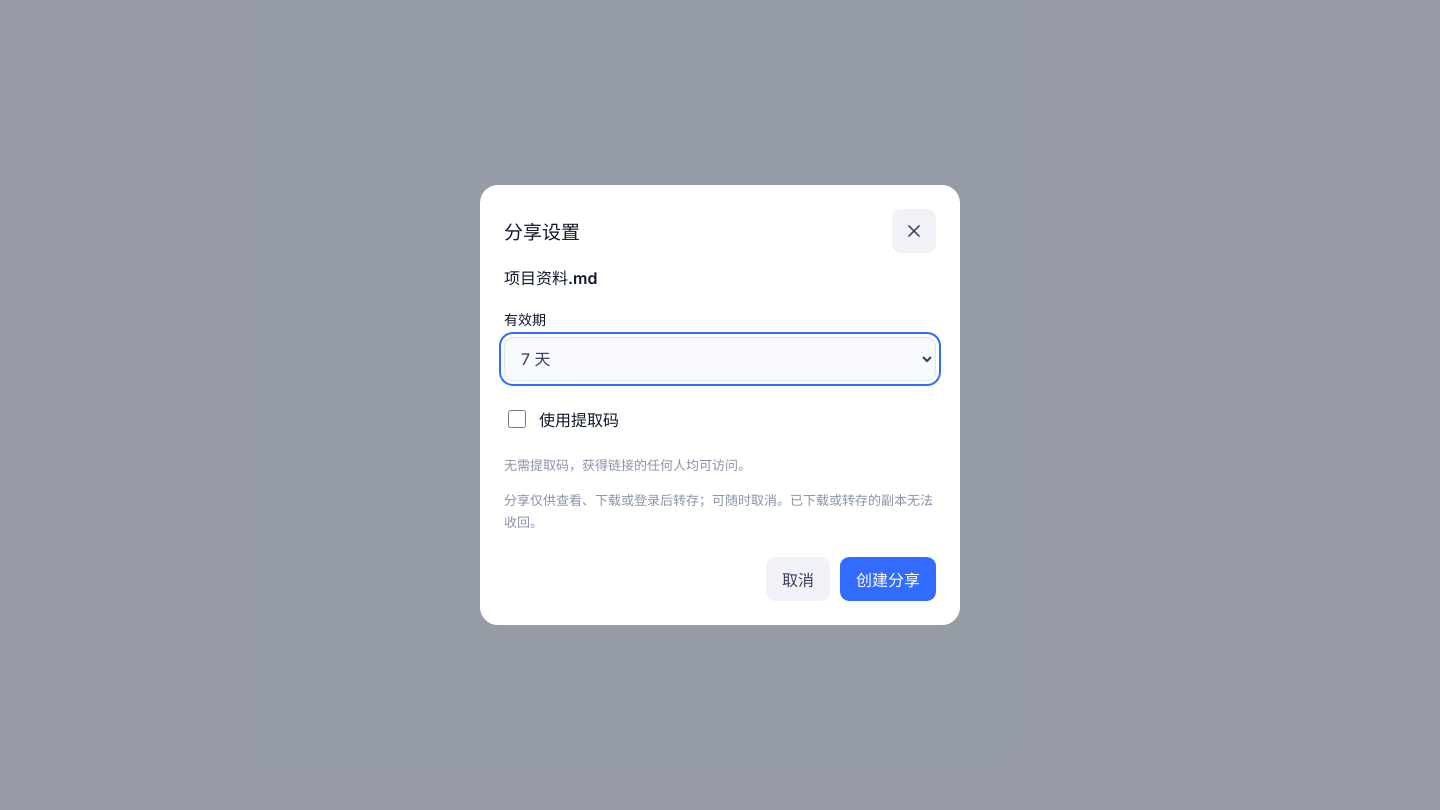
Test case: share settings › does not send an invalid lifetime or extraction code
The width and height of the screenshot is (1440, 810).
Select "自定义天数" in the dropdown with id "share-duration": (720, 359) [504,337,936,381]
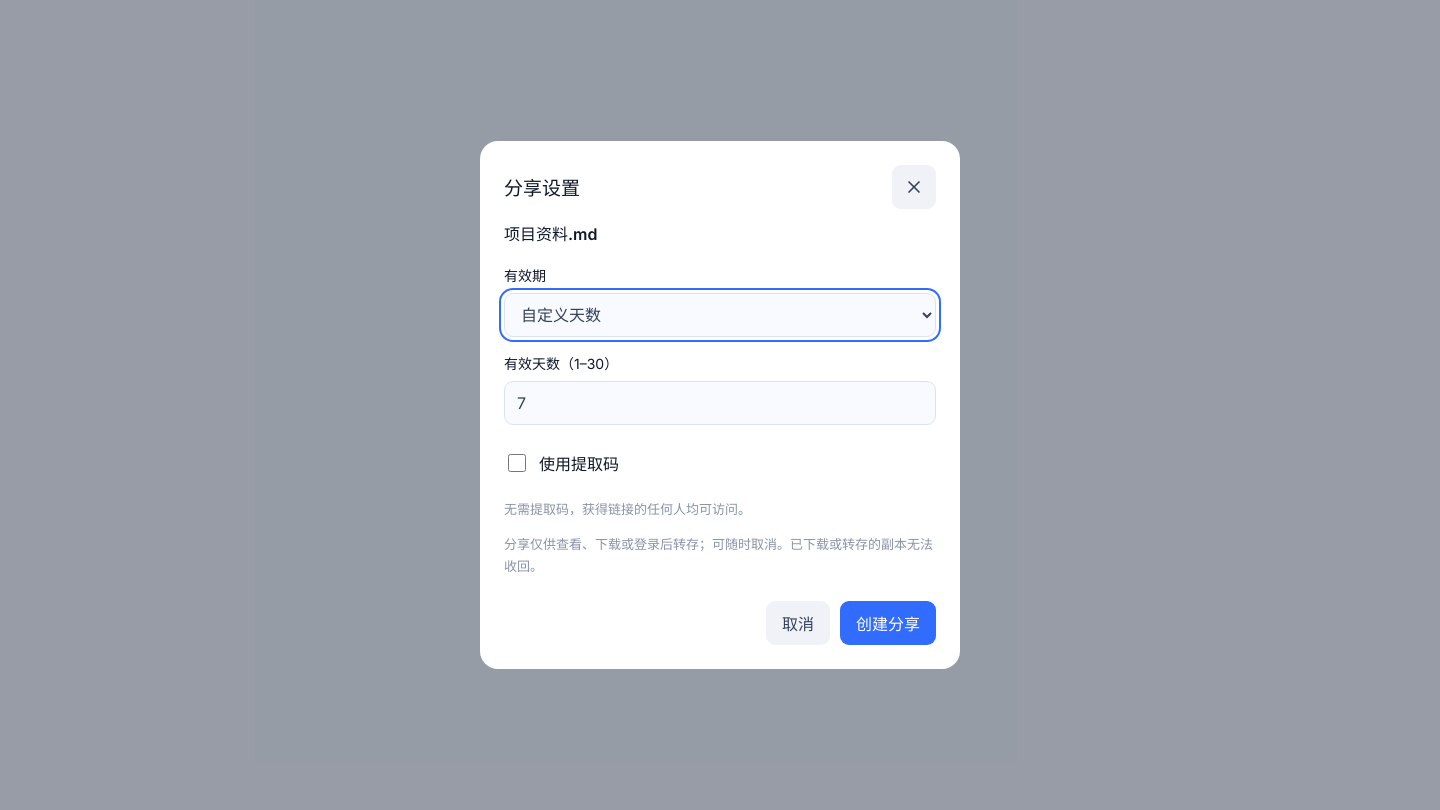
Replace the text in the number field with id "share-custom-days" with "31": (720, 403) [504,381,936,425]
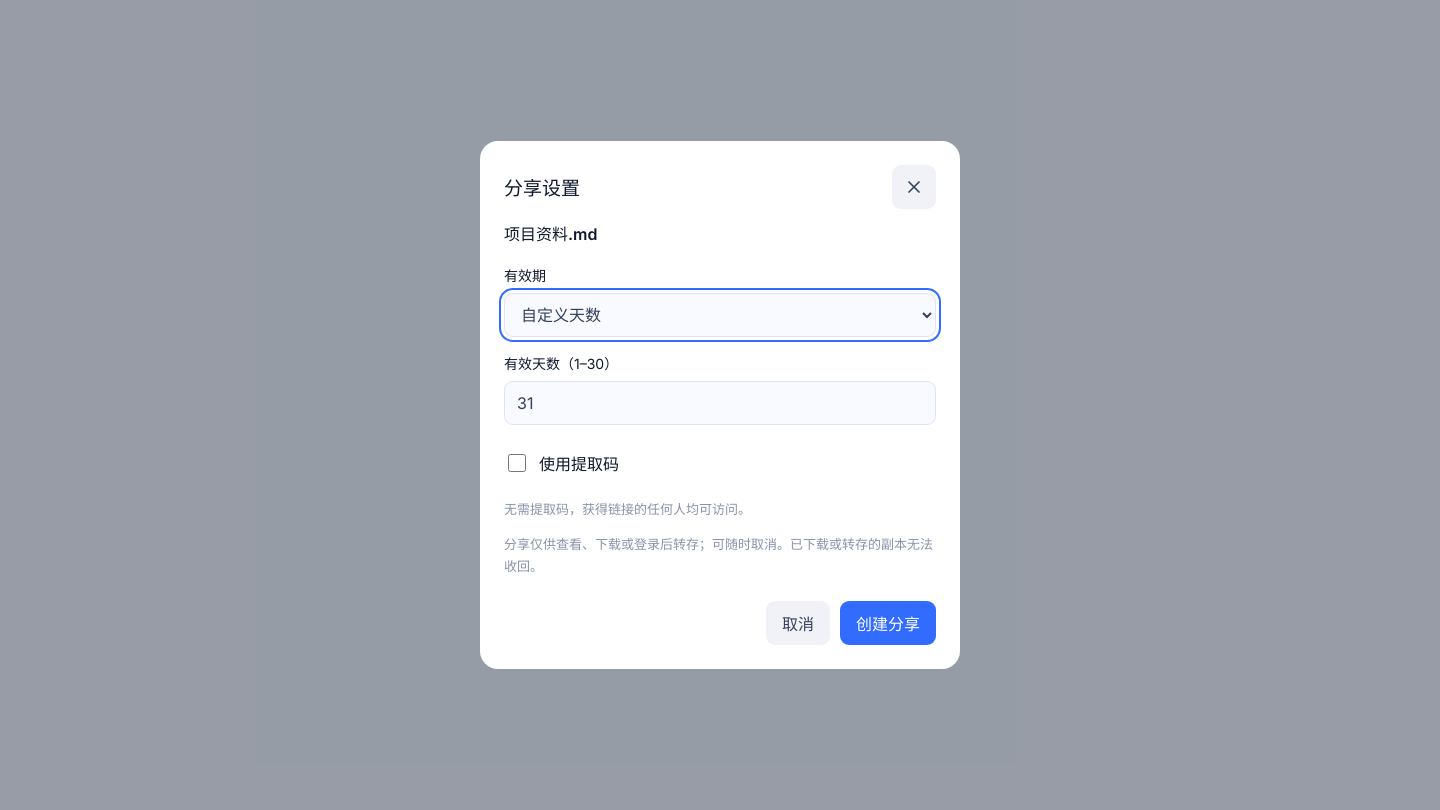
Submit the form, box [504,265,936,645]
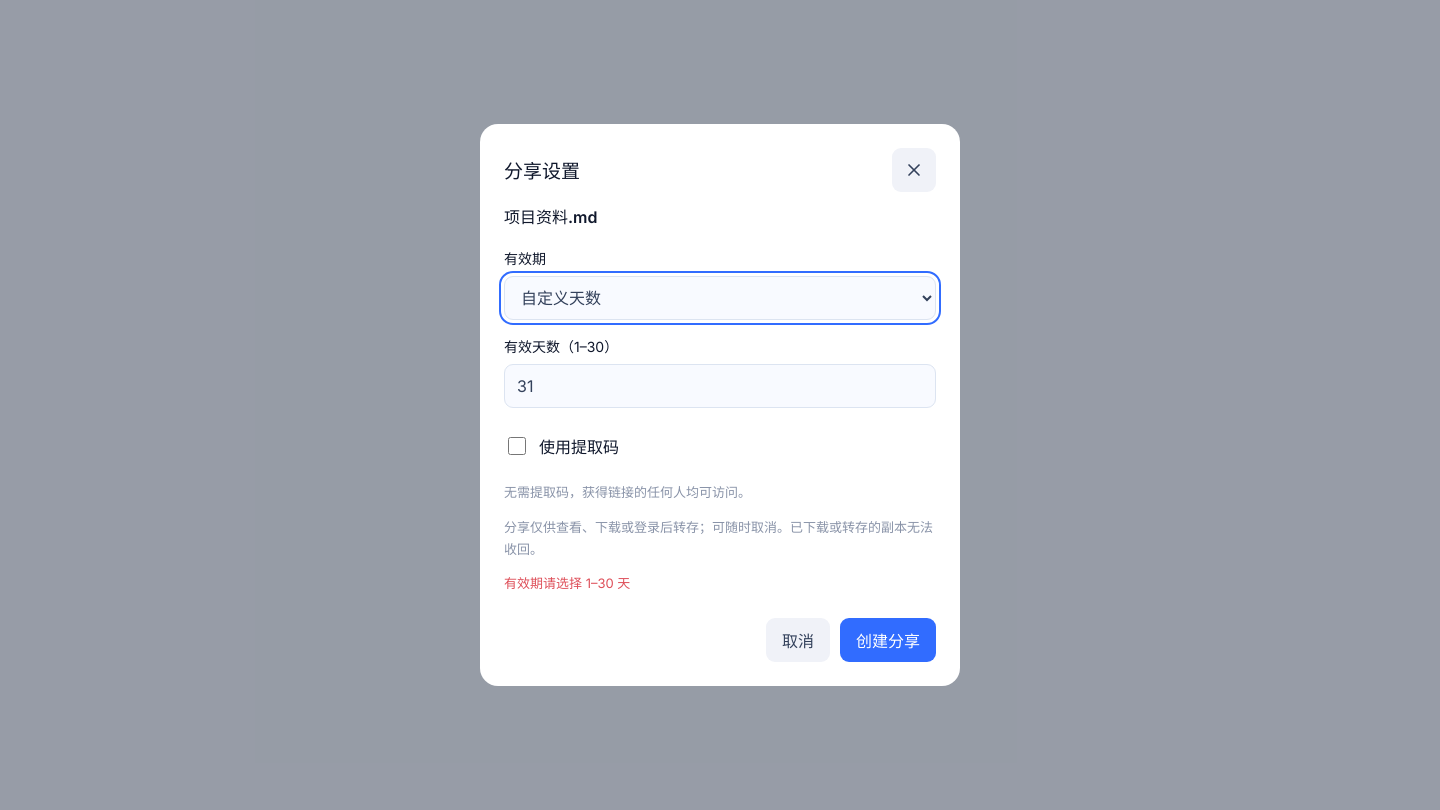
Now the message "有效期请选择 1–30 天" is shown, box [504,575,630,591]
Replace the text in the number field with id "share-custom-days" with "2": (720, 386) [504,364,936,408]
Click the checkbox labelled "使用提取码": (517, 446) [508,437,526,455]
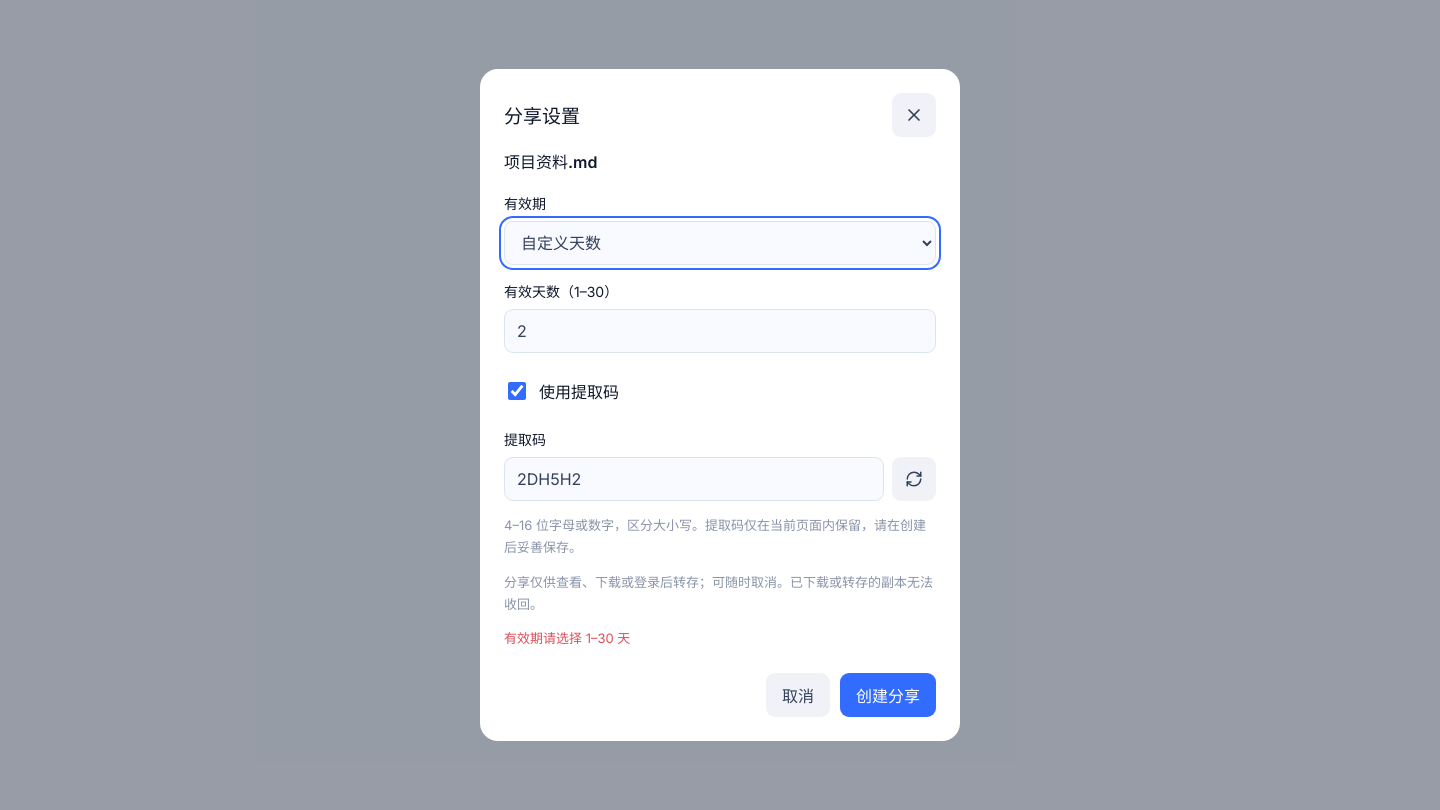
Replace the text in the field with id "share-extraction-code" with "bad code": (694, 479) [504,457,884,501]
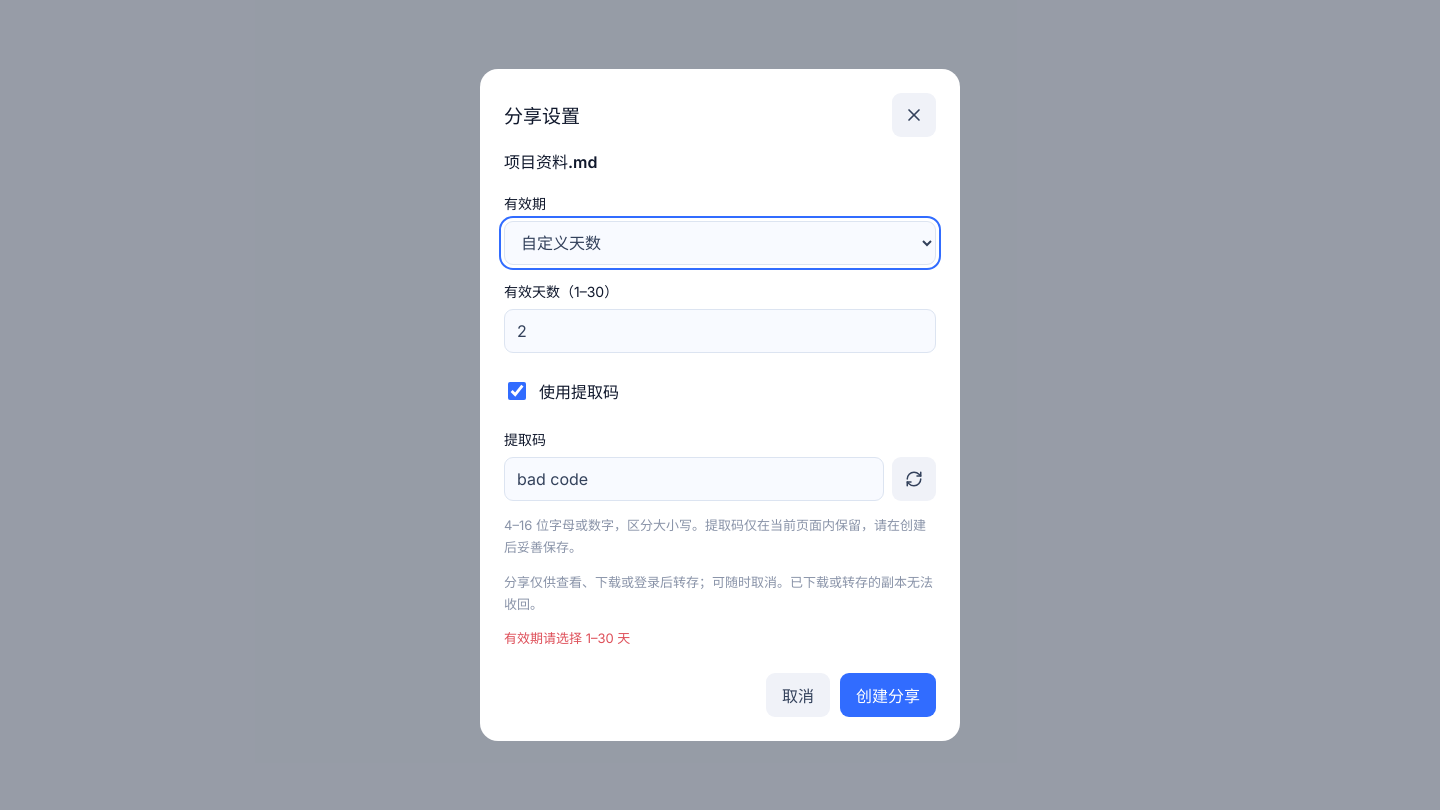
Submit the form, box [504,193,936,717]
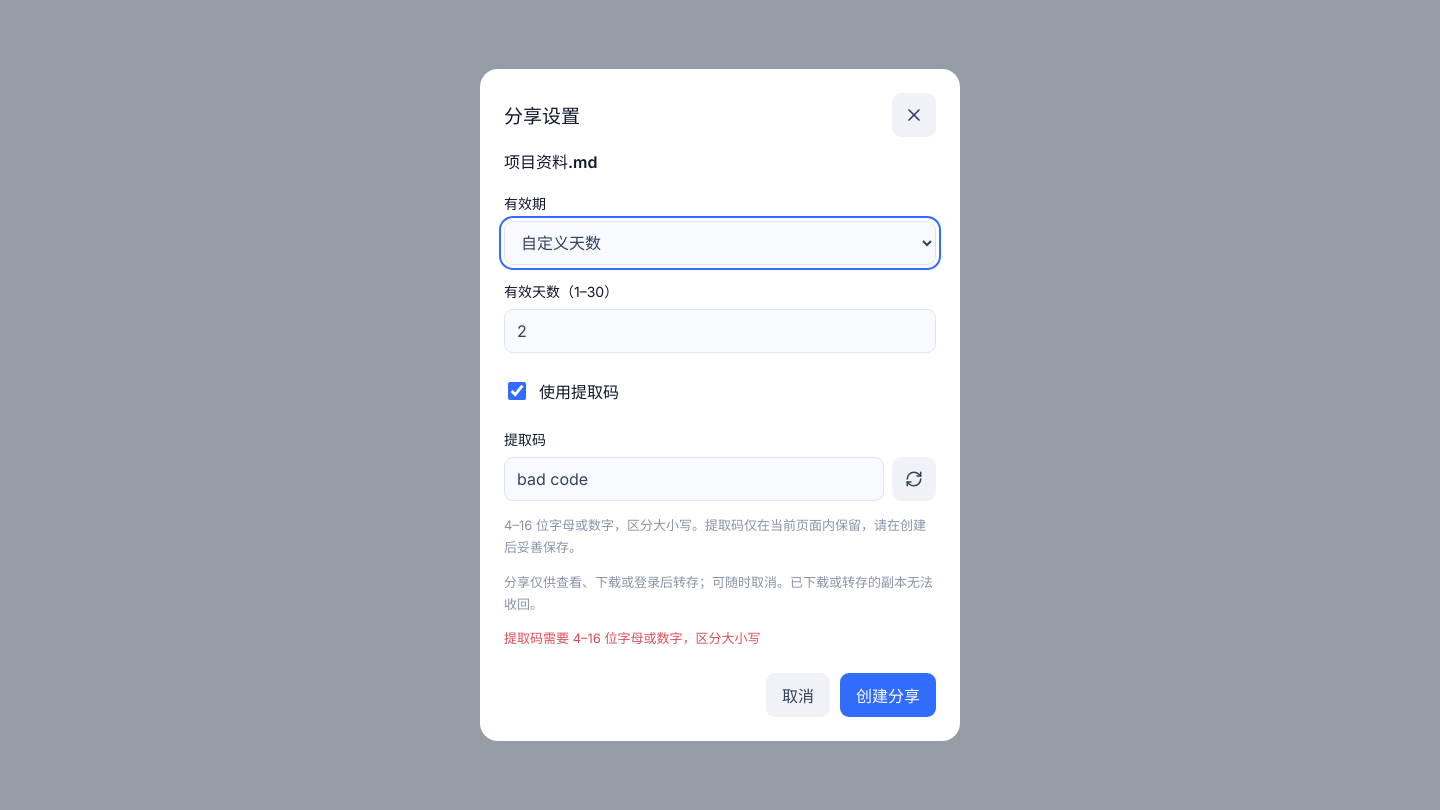
Now the message "提取码需要 4–16 位字母或数字，区分大小写" is shown, box [504,630,761,646]
